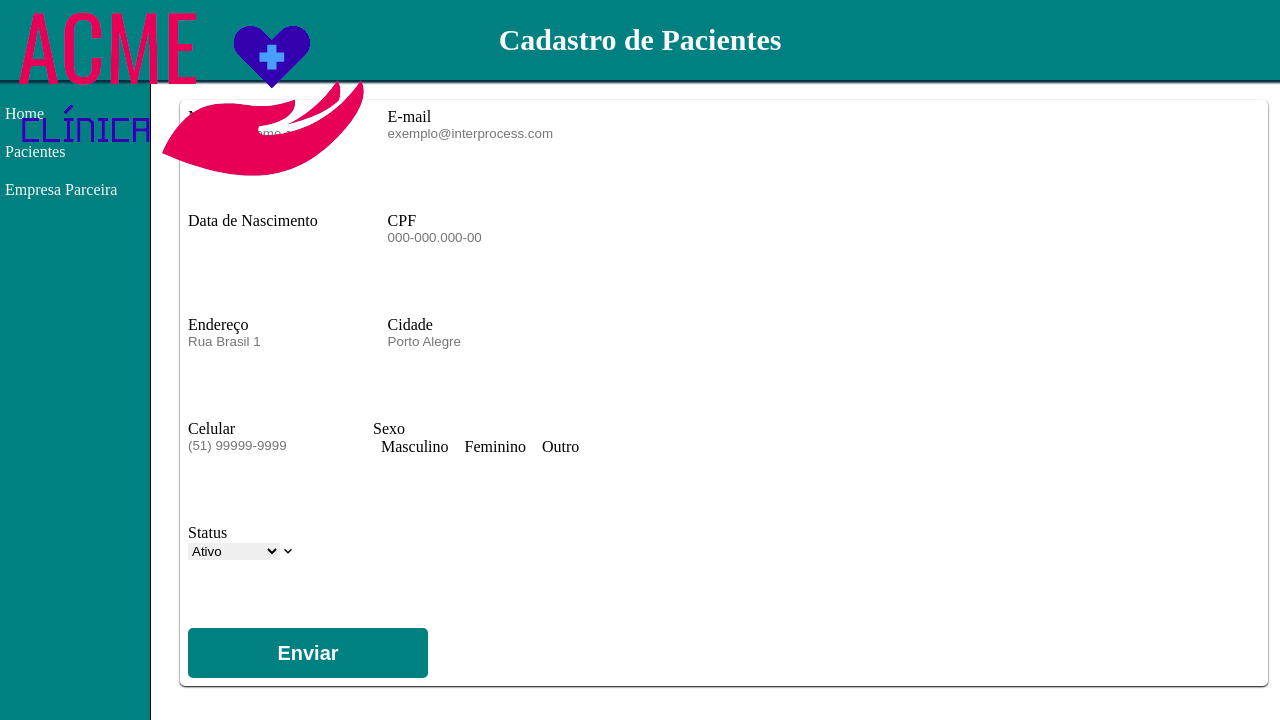
Test case: Verifica página RegisterPage › Se quando o gênero do paciente é selecionado ele é inserido corretamente na váriavel form
Expected: the element with test id "genre-radio" is shown, [373,438,579,456]
Click the button with test id "submit-btn" at (308, 653), box [188,628,428,678]
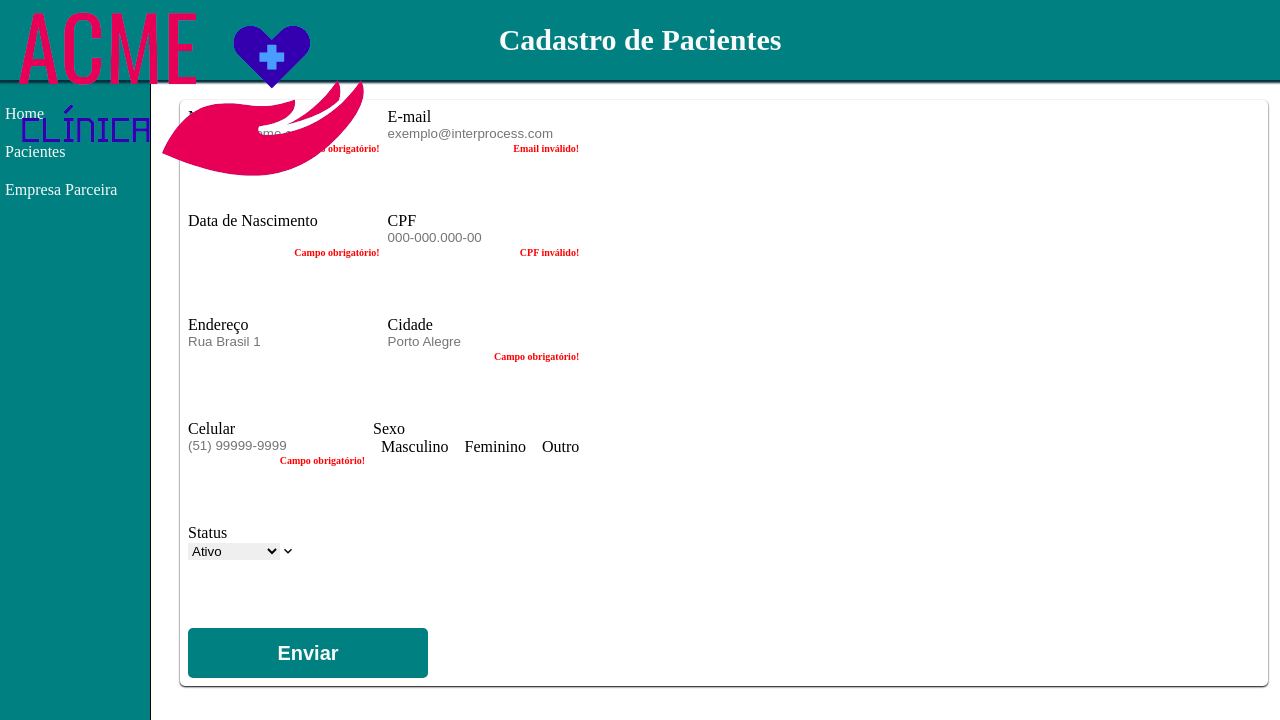
Result: the text "Email inválido!" is shown at [513,143,579,154]
